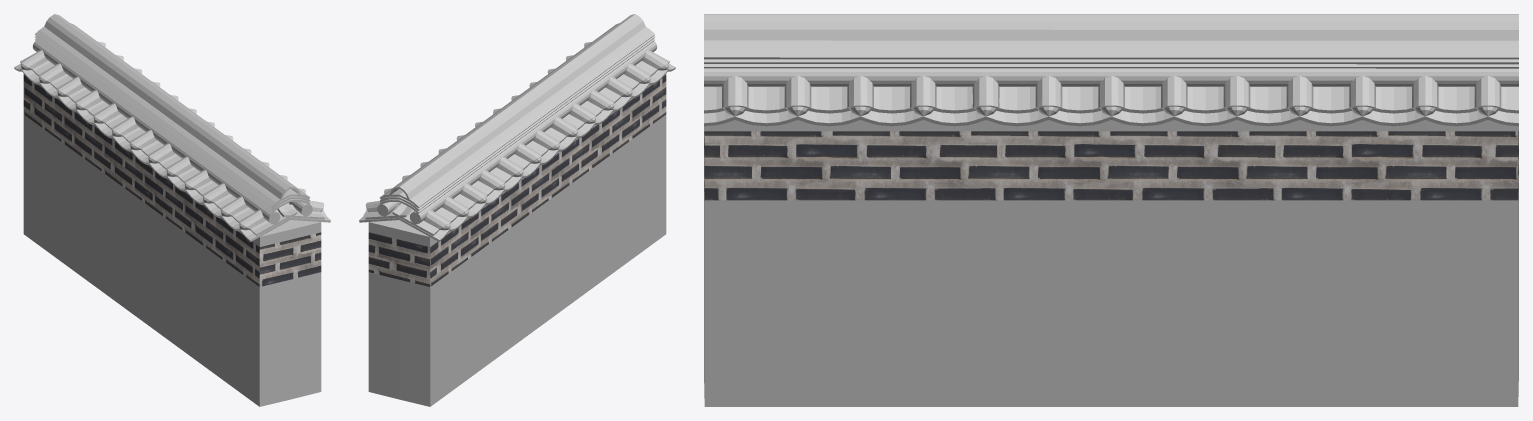
The model's file is SM_StraightStronewall_1.fbx.
3 views of the same model, side by side, from view 1: azimuth 30°, elevation 25°; view 2: azimuth 150°, elevation 25°; view 3: azimuth 270°, elevation 25° (orthographic). The views are drawn at different scales.
Visible parts, largest first — view 1: SM_StraightStronewall_1; view 2: SM_StraightStronewall_1; view 3: SM_StraightStronewall_1.
Boxes of the visible parts, x1,y1,x2,y2 form: SM_StraightStronewall_1: [14, 14, 330, 406]; SM_StraightStronewall_1: [359, 14, 675, 406]; SM_StraightStronewall_1: [704, 14, 1518, 406].
Bounding box in the file's own units: 85.78 × 421 × 209.
